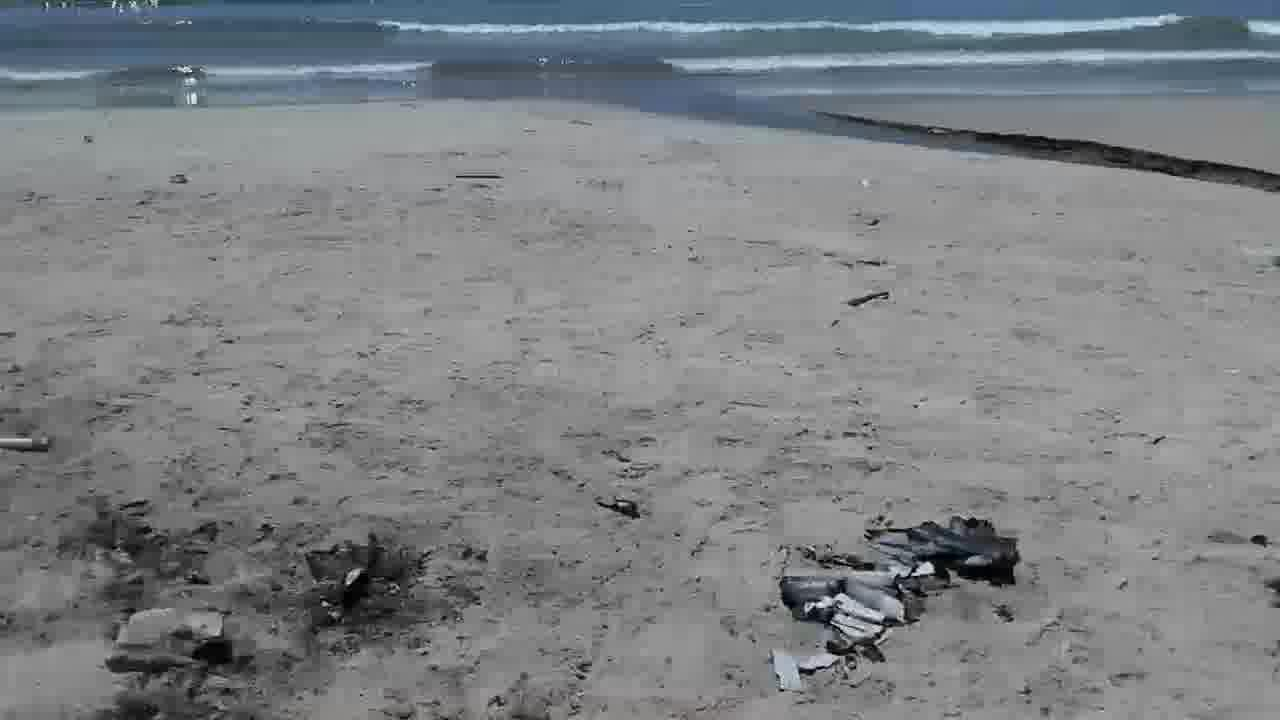large collection of objects: (75, 493, 470, 719)
obj: (756, 510, 1028, 706), (583, 492, 649, 525), (840, 290, 896, 312), (4, 438, 52, 458)
sand/background: (1, 0, 1279, 201)
